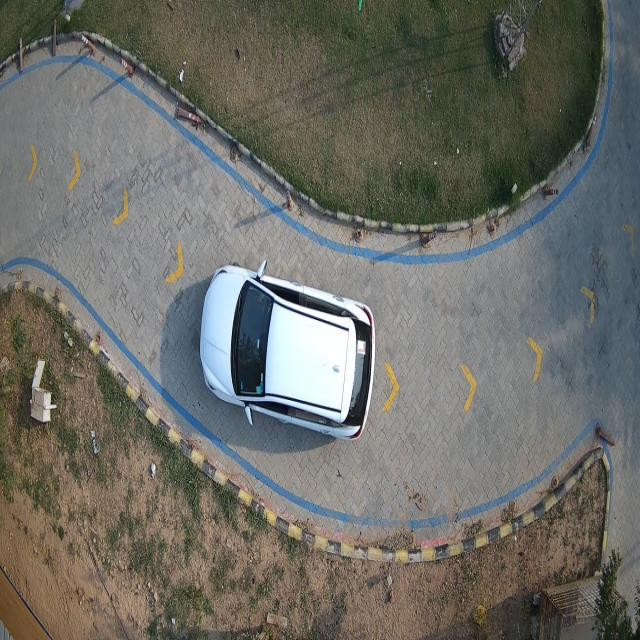car: (199, 263, 375, 442)
